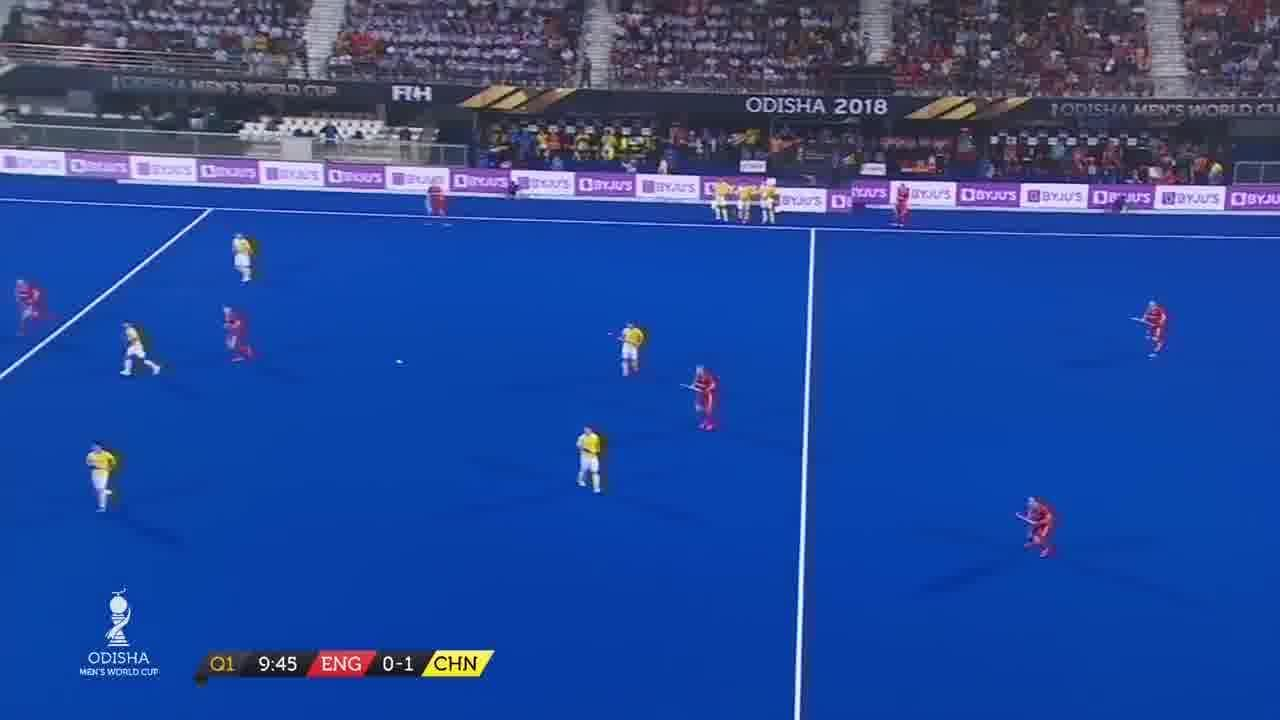ball: (388, 344, 412, 371)
